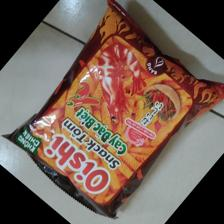Oishi_Cay: (1, 1, 224, 220)
